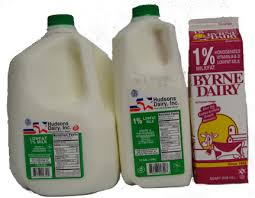milk: (11, 17, 117, 198), (112, 7, 196, 188)
